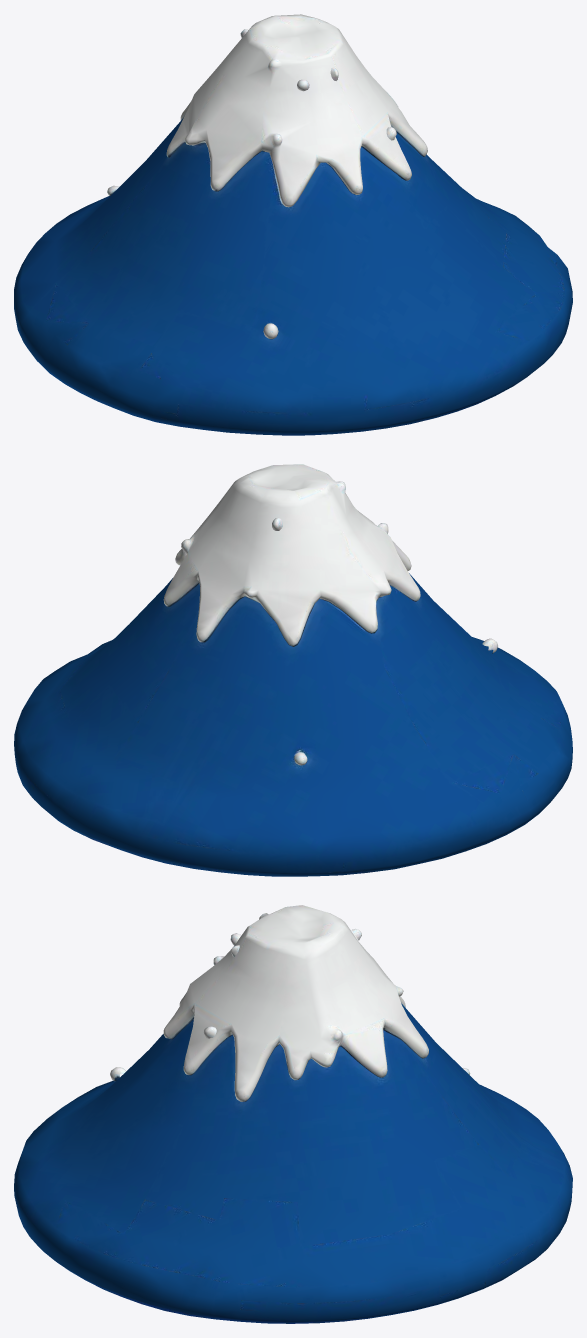
Rendered from fuji.glb.
3 views of the same model, one above another, from view 1: azimuth 30°, elevation 25°; view 2: azimuth 150°, elevation 25°; view 3: azimuth 270°, elevation 25° (orthographic).
Parts seen in each view (by area): view 1: prop-fuji.glb; view 2: prop-fuji.glb; view 3: prop-fuji.glb.
Boxes of the visible parts, x1,y1,x2,y2 form: prop-fuji.glb: (14,14,572,435); prop-fuji.glb: (14,464,572,876); prop-fuji.glb: (14,905,572,1323).
Size of the model in its own units: 0.9985 by 0.5728 by 0.9995.
Materials: 1 (1 with a texture image).
